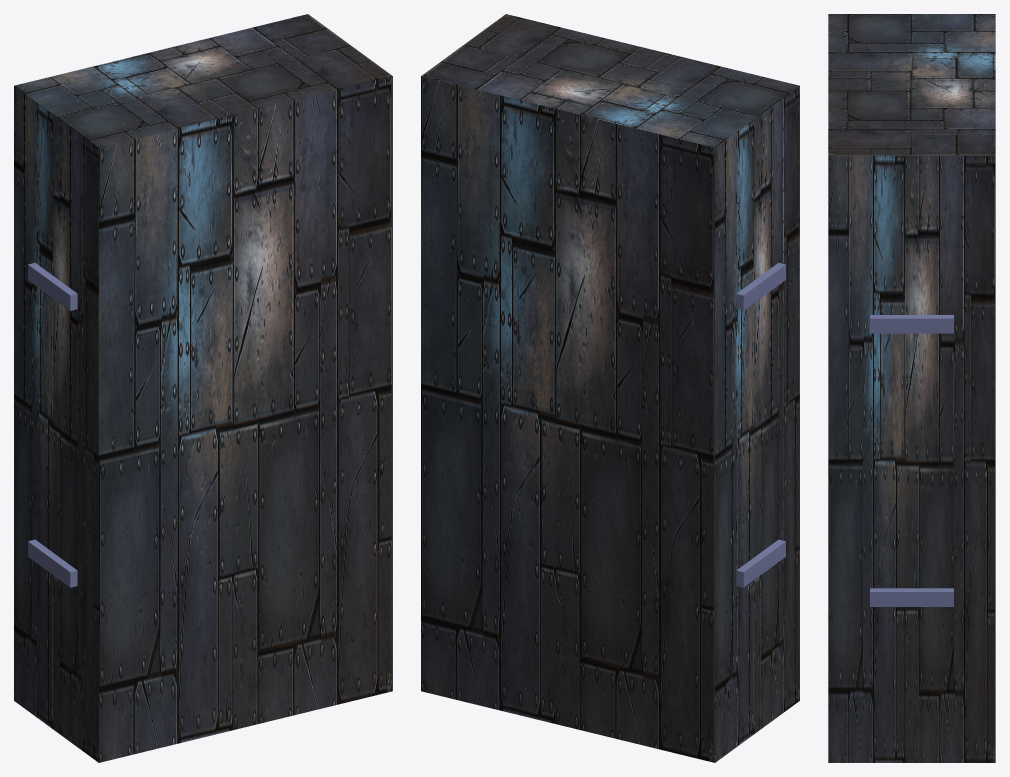
Rendered from parcour1.glb.
3 renders of one model, left to right at view 1: azimuth 30°, elevation 25°; view 2: azimuth 150°, elevation 25°; view 3: azimuth 270°, elevation 25°, orthographic.
Parts seen in each view (by area): view 1: Box, Box2, Box3; view 2: Box, Box2, Box3; view 3: Box, LightBox1, Box1.
Boxes of the visible parts, x1=… form: Box: x1=14, y1=14, x2=392, y2=762; Box2: x1=28, y1=263, x2=77, y2=310; Box3: x1=28, y1=539, x2=77, y2=587; Box: x1=421, y1=14, x2=799, y2=762; Box2: x1=736, y1=263, x2=785, y2=310; Box3: x1=736, y1=539, x2=785, y2=587; Box: x1=828, y1=14, x2=995, y2=762; LightBox1: x1=870, y1=315, x2=953, y2=333; Box1: x1=870, y1=588, x2=953, y2=606.
Bounding box in the file's own units: 2.1 × 4 × 1.
5 materials, 1 textured.
